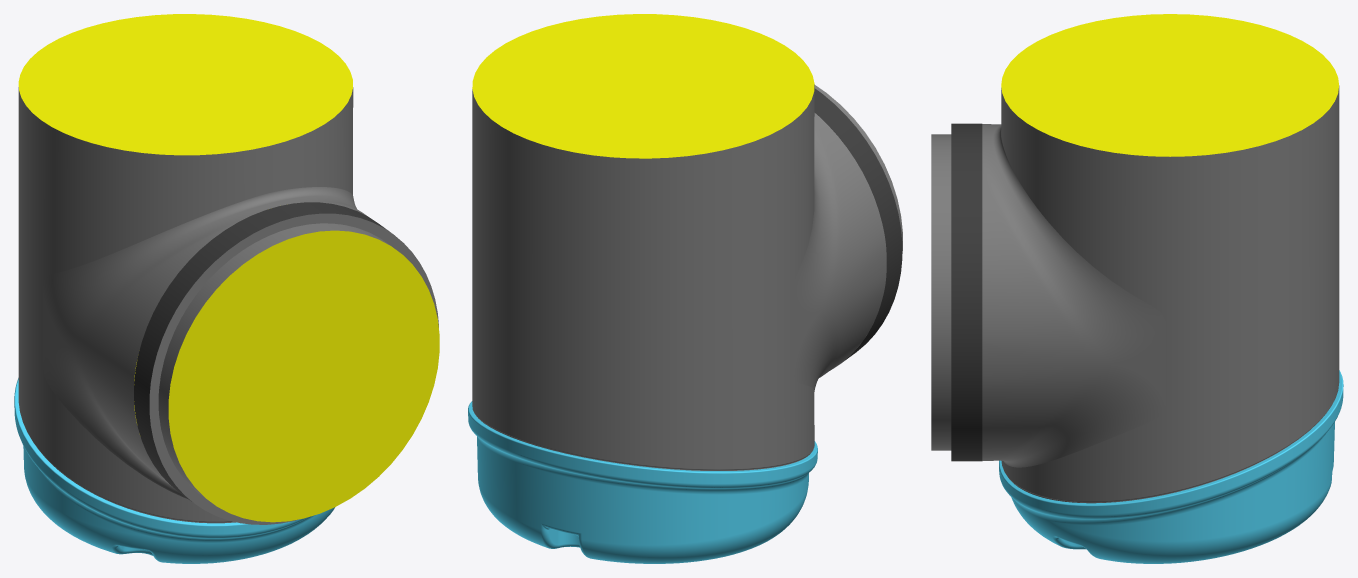
Rendered from Joint3.obj.
3 views of the same model, side by side, from view 1: azimuth 30°, elevation 25°; view 2: azimuth 150°, elevation 25°; view 3: azimuth 270°, elevation 25° (orthographic). The views are drawn at different scales.
Visible parts, largest first — view 1: Solid1, Solid1:1, Solid2; view 2: Solid1, Solid1:1, Solid2; view 3: Solid1, Solid1:1, Solid2.
Boxes of the visible parts, left/top/right/bottom form: Solid1: left=18, top=14, right=439, bottom=523; Solid1:1: left=14, top=378, right=334, bottom=563; Solid2: left=134, top=202, right=438, bottom=524; Solid1: left=472, top=14, right=902, bottom=470; Solid1:1: left=468, top=401, right=817, bottom=563; Solid2: left=814, top=88, right=902, bottom=370; Solid1: left=931, top=14, right=1339, bottom=503; Solid1:1: left=999, top=370, right=1343, bottom=563; Solid2: left=951, top=123, right=982, bottom=461.
Bounding box in the file's own units: 0.0644 × 0.0887 × 0.0768.
